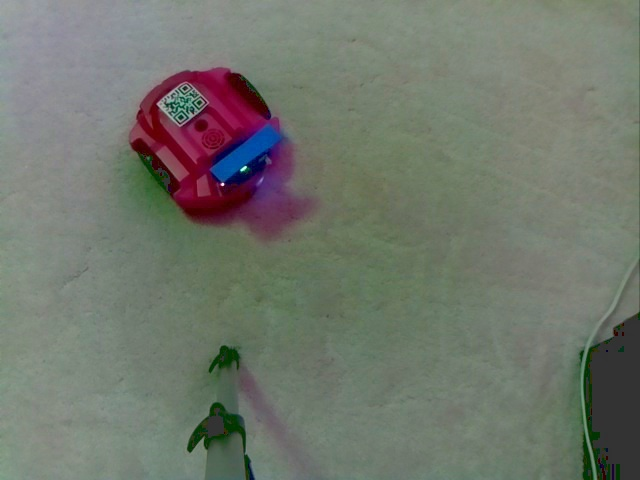board: (212, 114, 281, 191)
chassis: (124, 62, 286, 217)
